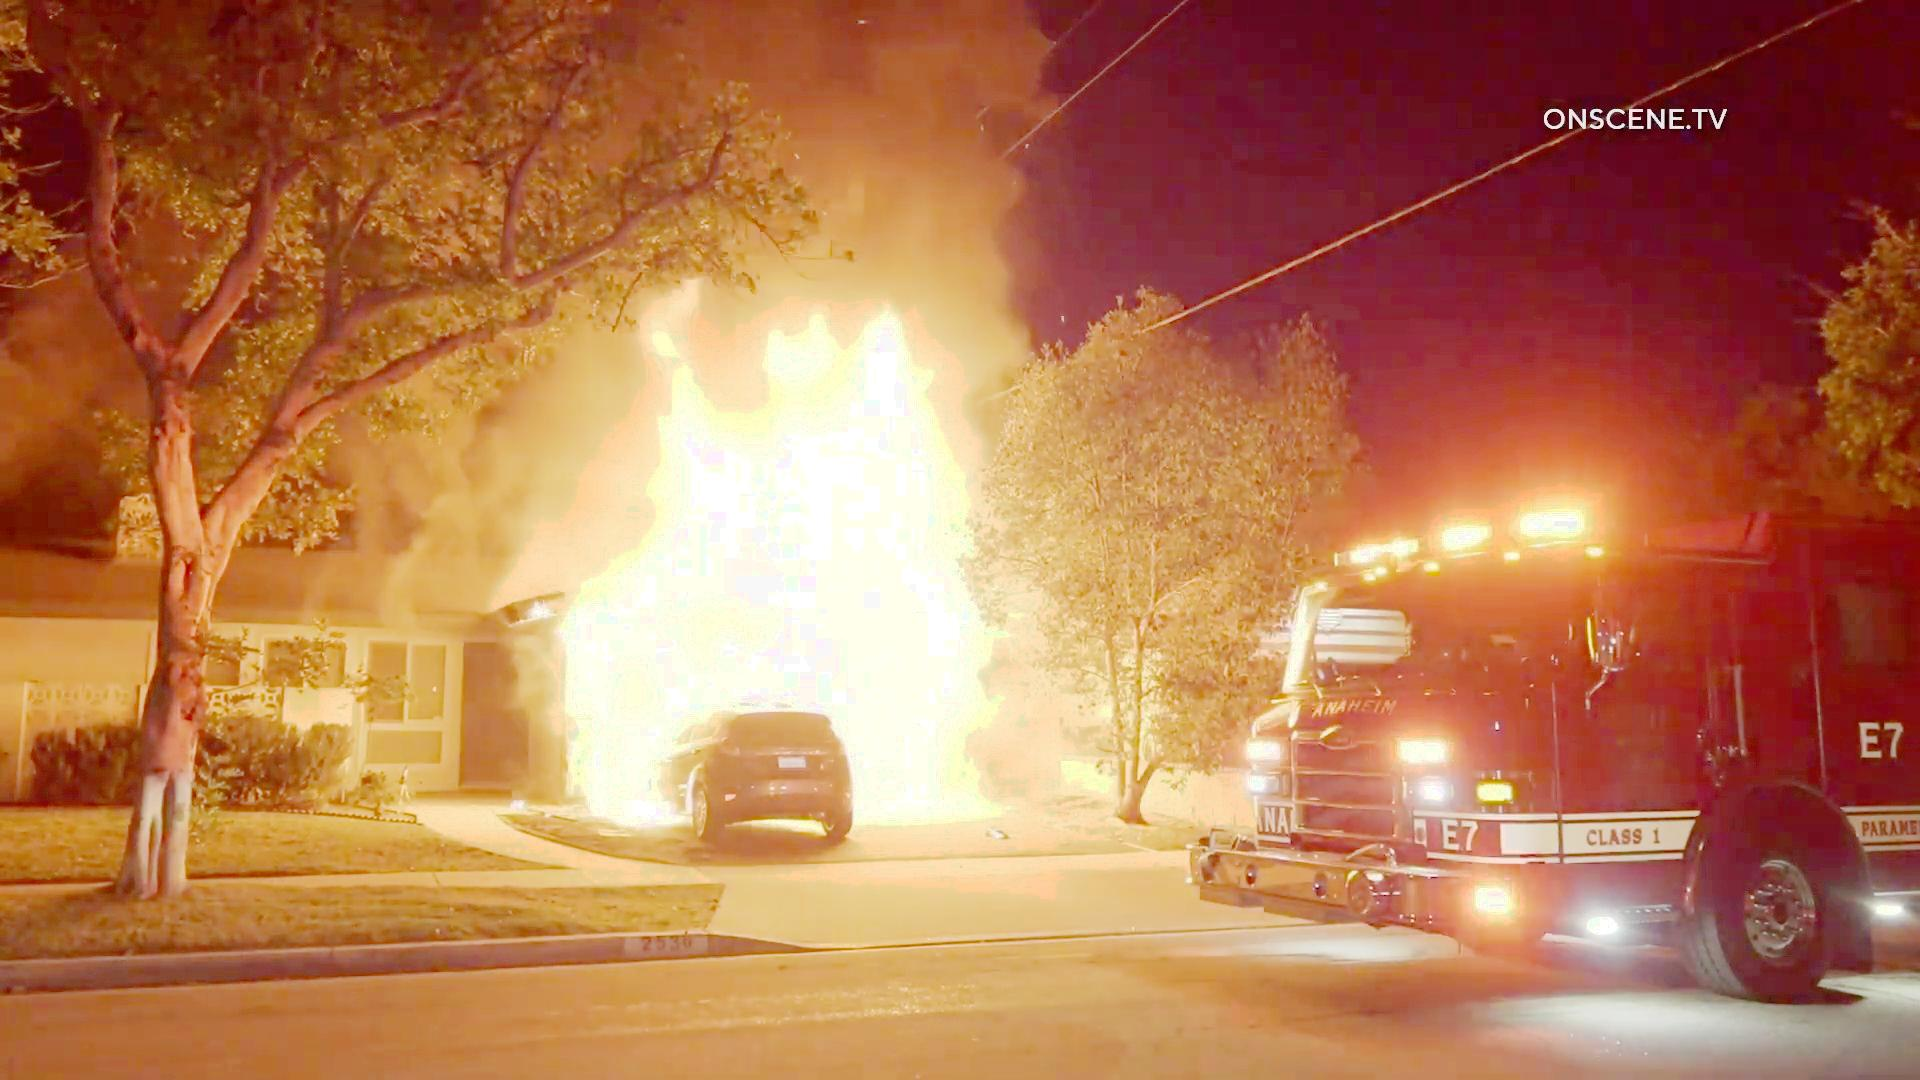fire: (585, 157, 1001, 811)
smoke: (633, 5, 960, 141), (430, 401, 567, 584)
